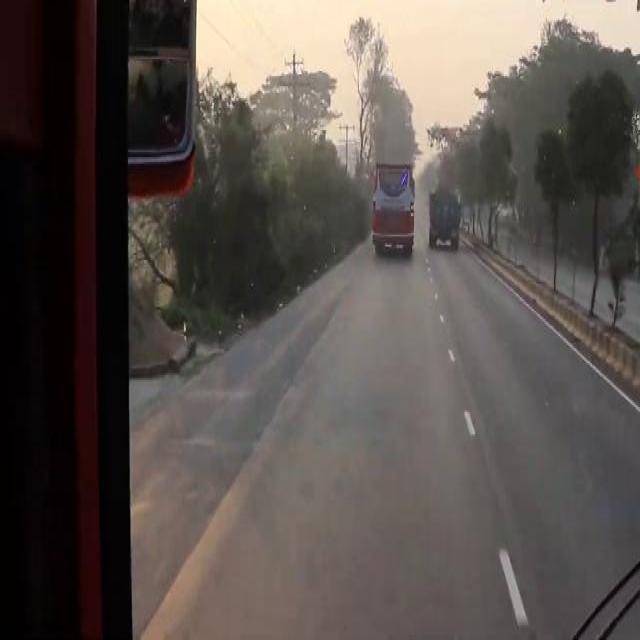18: (428, 184, 460, 248)
Truck: (371, 160, 413, 250)
